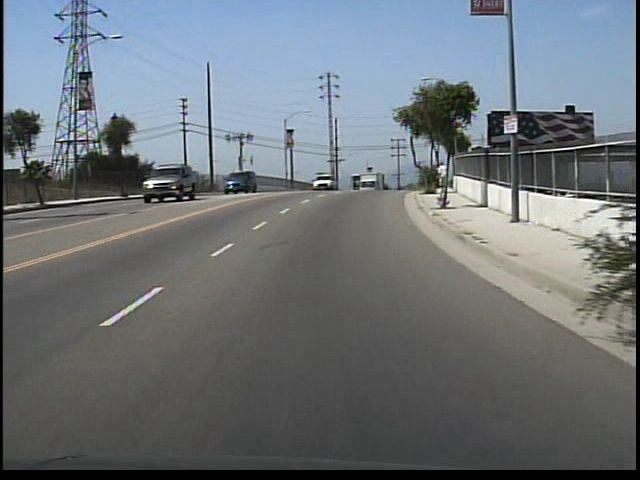person: (436, 159, 451, 194)
